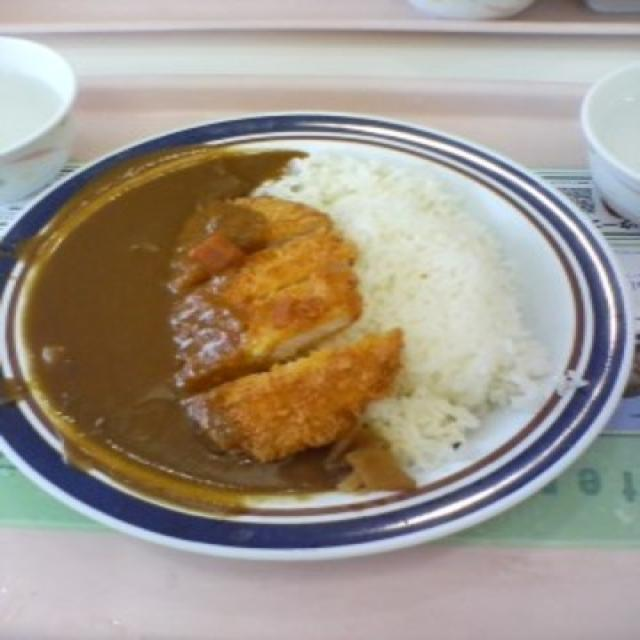猪肉菜式: (2, 120, 640, 521)
